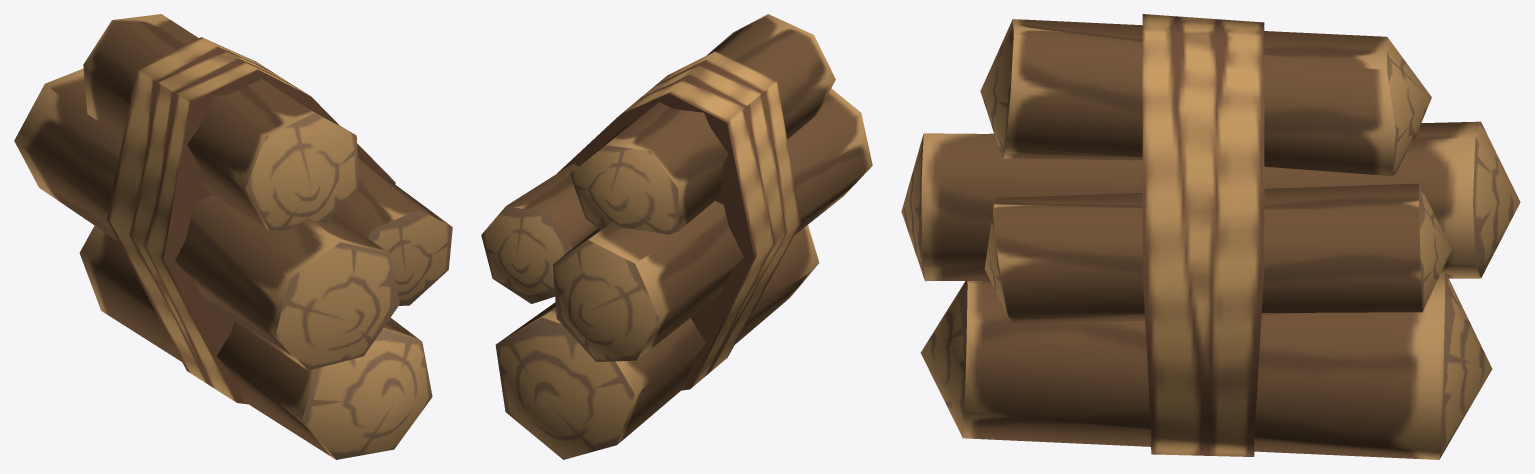
Rendered from Back_Wood.FBX.
3 views of the same model, side by side, from view 1: azimuth 30°, elevation 25°; view 2: azimuth 150°, elevation 25°; view 3: azimuth 270°, elevation 25° (orthographic). The views are drawn at different scales.
Parts seen in each view (by area): view 1: Back_Wood; view 2: Back_Wood; view 3: Back_Wood.
Part boxes in pixels (x1=…): Back_Wood: x1=14, y1=14, x2=452, y2=459; Back_Wood: x1=481, y1=14, x2=872, y2=459; Back_Wood: x1=901, y1=14, x2=1520, y2=459.
Size of the model in its own units: 21.56 by 31.92 by 43.98.
